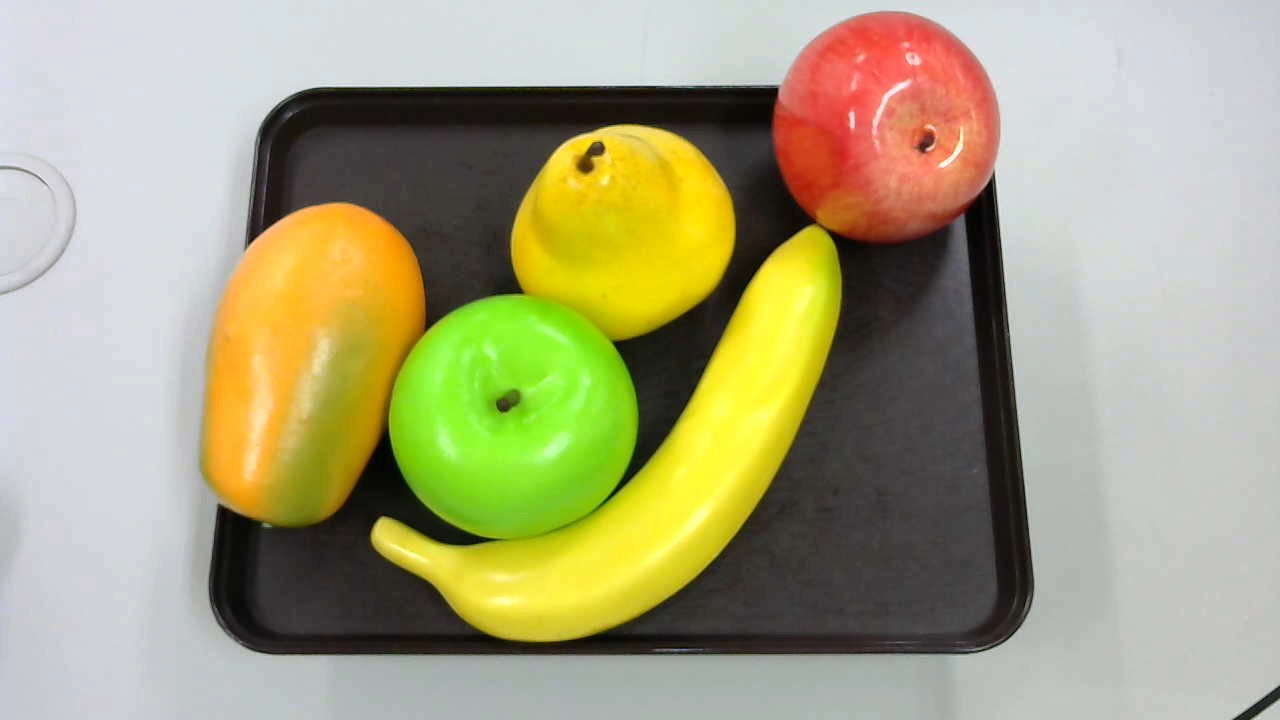banana: (368, 221, 852, 644)
green apple: (391, 293, 644, 539)
papya: (195, 195, 428, 551)
red apple: (772, 13, 1000, 258)
yellow pear: (509, 123, 735, 330)
